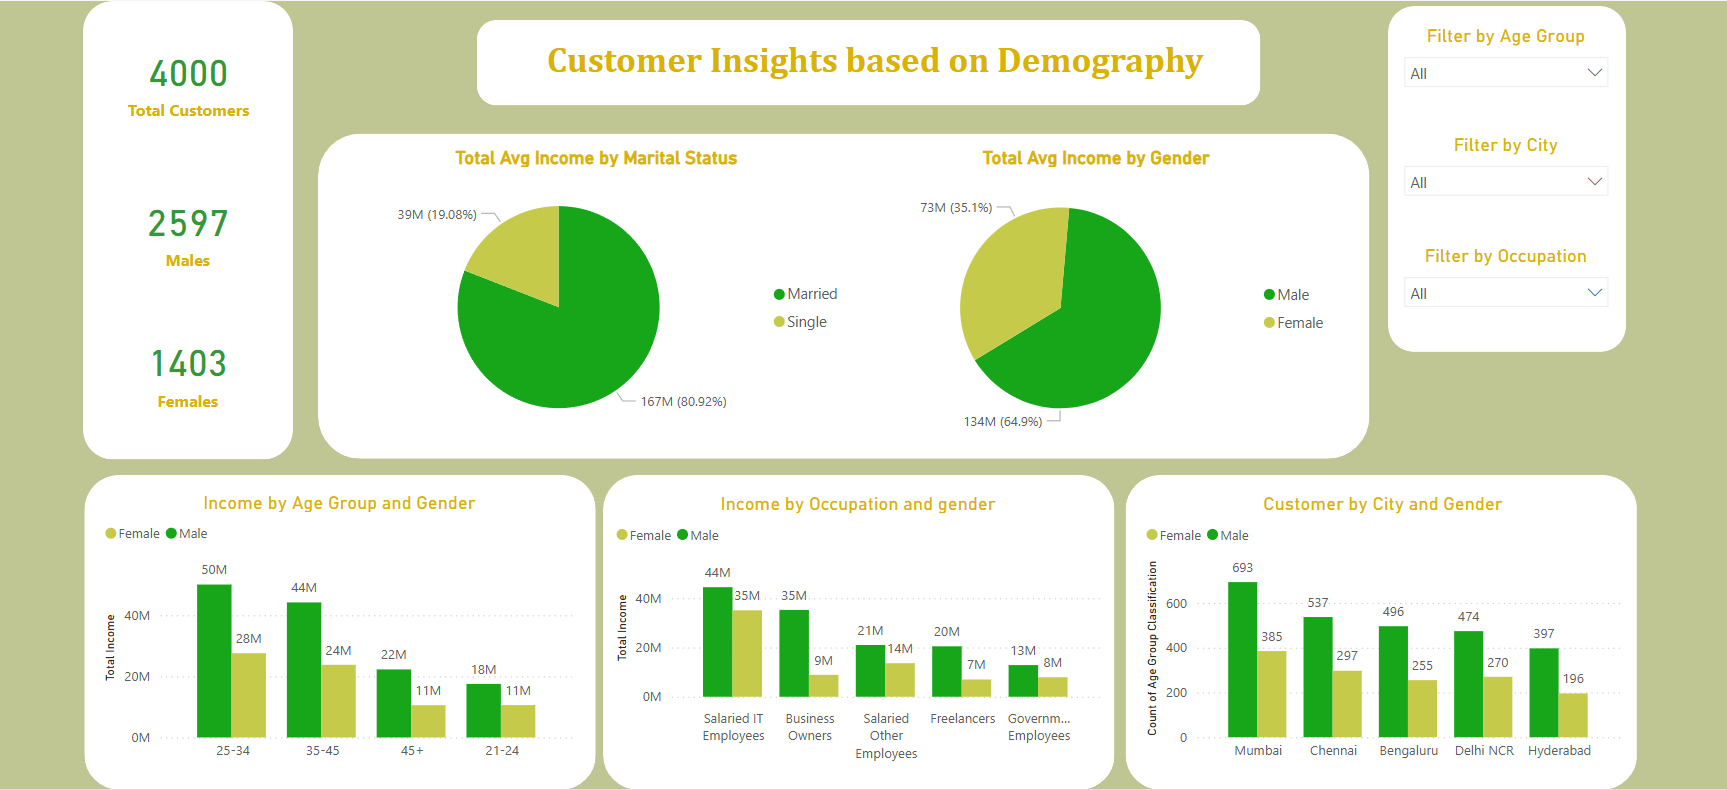

Layout of this report page (visuals, bound fields, positions):
{"tool":"powerbi","page":{"name":"Demographic Analysis","canvas":[1420,720],"ordinal":1},"visuals":[{"type":"shape","box":[952.7,432.4,467.6,287.8],"z":0},{"type":"shape","box":[475.7,432.4,467.6,287.8],"z":1000},{"type":"shape","box":[1.4,432.4,467.6,287.8],"z":2000},{"type":"shape","box":[1191.9,4.1,217.6,316.2],"z":3000},{"type":"shape","box":[359.5,17.6,716.2,78.4],"z":4000},{"type":"shape","box":[214.9,121.6,960.8,297.3],"z":5000},{"type":"shape","box":[0,0,191.9,418.9],"z":6000},{"type":"card","fields":{"Values":["Measure Table.Total Customers"]},"box":[14.9,4.1,163.5,136.5],"z":7000},{"type":"textbox","box":[394.6,29.7,659.5,56.8],"z":8000},{"type":"card","fields":{"Values":["Measure Table.Males"]},"box":[14.9,140.5,162.2,139.2],"z":9000},{"type":"card","fields":{"Values":["Measure Table.Females"]},"box":[14.9,279.7,162.2,117.6],"z":10000},{"type":"slicer","title":"Filter by Age Group ","fields":{"Values":["dim_customers.age_group"]},"box":[1197.3,21.6,206.8,70.3],"z":11000},{"type":"slicer","title":"Filter by City ","fields":{"Values":["dim_customers.city"]},"box":[1197.3,121.6,206.8,68.9],"z":12000},{"type":"slicer","title":"Filter by Occupation","fields":{"Values":["dim_customers.occupation"]},"box":[1197.3,223,206.8,68.9],"z":13000},{"type":"clusteredColumnChart","title":"Income  by Occupation and gender","fields":{"Category":["dim_customers.occupation"],"Series":["dim_customers.gender"],"Y":["Measure Table.Total Income"]},"box":[482.4,448.6,452.7,254.1],"z":14000},{"type":"clusteredColumnChart","title":"Income by Age Group and Gender","fields":{"Category":["dim_customers.age_group"],"Series":["dim_customers.gender"],"Y":["Measure Table.Total Income"]},"box":[14.9,447.3,439.2,255.4],"z":15000},{"type":"pieChart","title":"Total Avg Income by Gender","fields":{"Category":["dim_customers.gender"],"Y":["Measure Table.Total Income"]},"box":[704.1,132.4,444.6,277],"z":16000},{"type":"pieChart","title":"Total Avg Income by Marital Status","fields":{"Y":["Measure Table.Total Income"],"Category":["dim_customers.marital status"]},"box":[233.8,132.4,470.3,275.7],"z":17000},{"type":"clusteredColumnChart","title":"Customer by City and Gender","fields":{"Category":["dim_customers.city"],"Series":["dim_customers.gender"],"Y":["CountNonNull(dim_customers.Age Group Classification )"]},"box":[966.2,448.6,443.2,254.1],"z":18000}]}

Visuals, with their boxes on the page's 1420x720 design canvas (x1, y1, x2, y2). These are canvas units, not pixel positions in the 1727x790 screenshot, which may show the page scaled, cropped or inside an application window:
shape: [953, 432, 1420, 720]
shape: [476, 432, 943, 720]
shape: [1, 432, 469, 720]
shape: [1192, 4, 1410, 320]
shape: [360, 18, 1076, 96]
shape: [215, 122, 1176, 419]
shape: [0, 0, 192, 419]
card - Measure Table.Total Customers: [15, 4, 178, 141]
textbox: [395, 30, 1054, 86]
card - Measure Table.Males: [15, 140, 177, 280]
card - Measure Table.Females: [15, 280, 177, 397]
"Filter by Age Group " slicer: [1197, 22, 1404, 92]
"Filter by City " slicer: [1197, 122, 1404, 190]
"Filter by Occupation" slicer: [1197, 223, 1404, 292]
"Income  by Occupation and gender" clusteredColumnChart: [482, 449, 935, 703]
"Income by Age Group and Gender" clusteredColumnChart: [15, 447, 454, 703]
"Total Avg Income by Gender" pieChart: [704, 132, 1149, 409]
"Total Avg Income by Marital Status" pieChart: [234, 132, 704, 408]
"Customer by City and Gender" clusteredColumnChart: [966, 449, 1409, 703]
